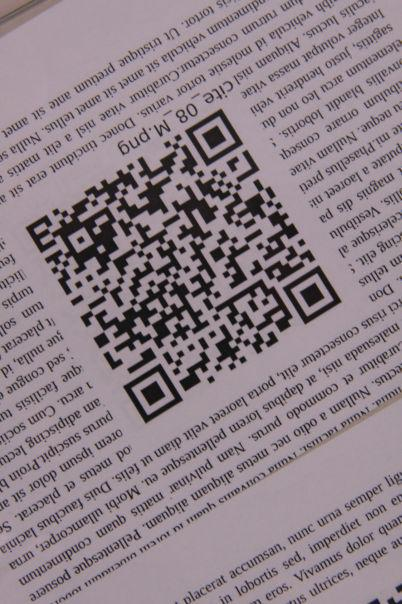Finder pattern: (119, 364, 187, 421), (185, 108, 246, 168), (283, 266, 341, 321)
